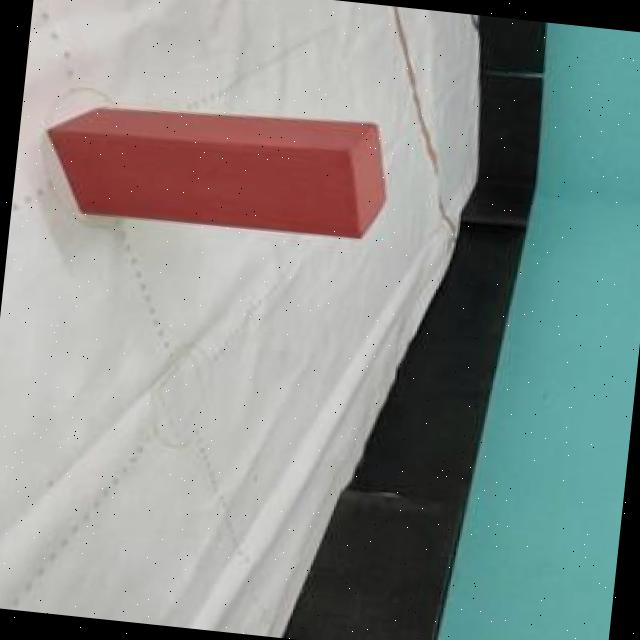redbox: (37, 90, 396, 248)
